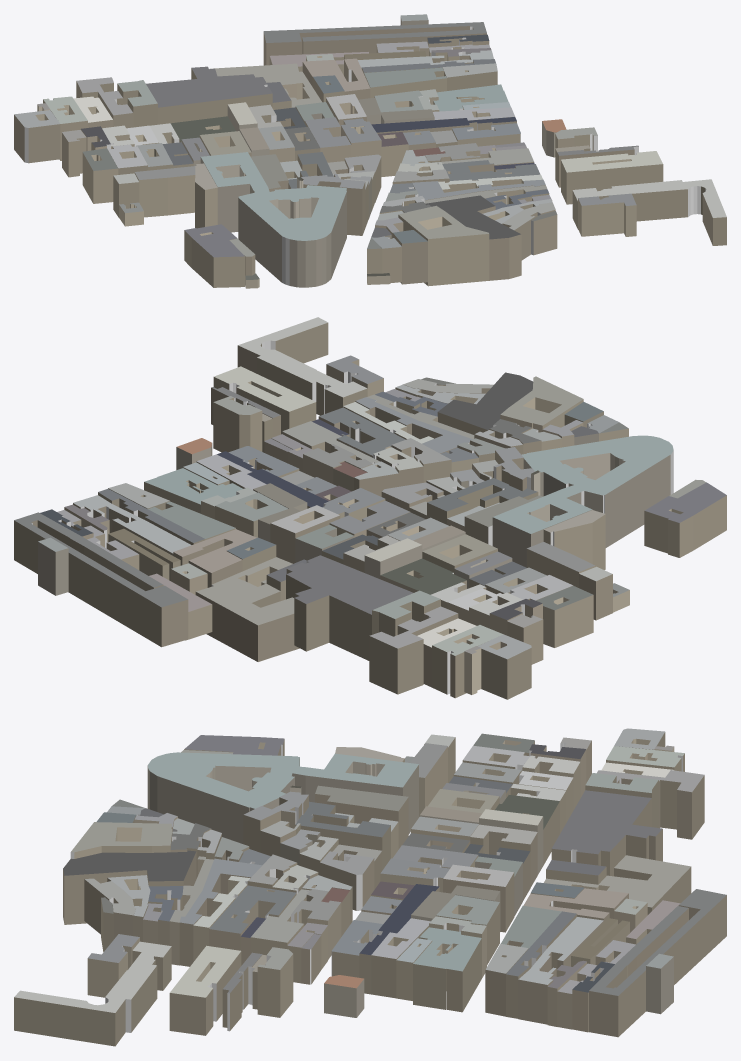
The picture shows the model from 3 angles, top to bottom: view 1: azimuth 30°, elevation 25°; view 2: azimuth 150°, elevation 25°; view 3: azimuth 270°, elevation 25°; orthographic projection. The views are drawn at different scales.
Parts seen in each view (by area): view 1: tuile; view 2: tuile; view 3: tuile.
Part boxes in pixels (box(x1,y1,x2,y2)): tuile: box(14, 14, 726, 288); tuile: box(14, 317, 726, 699); tuile: box(14, 728, 726, 1046).
Size of the model in its own units: 286 by 35.88 by 315.
